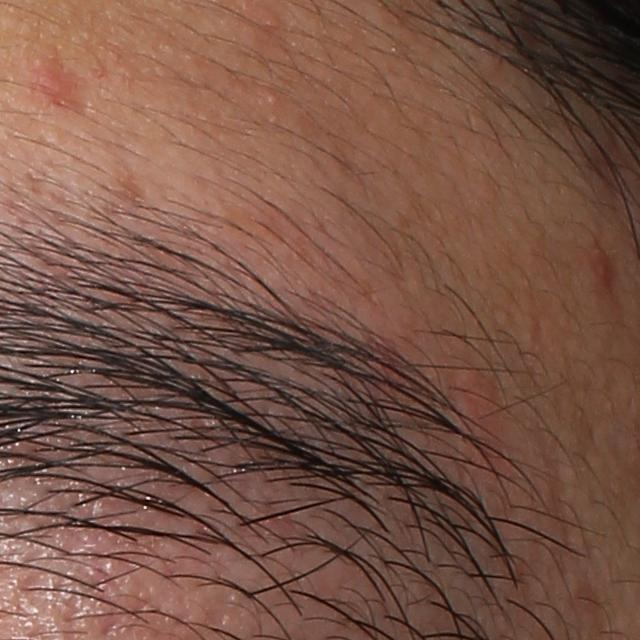comedo: (260, 86, 282, 110)
papule: (586, 243, 620, 286)
